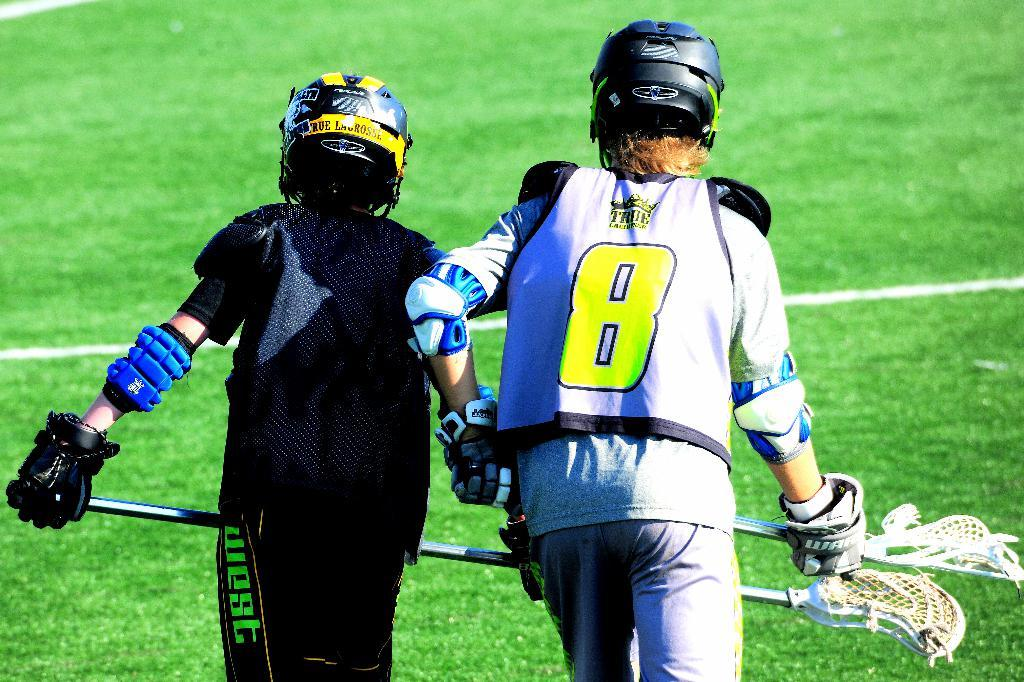helmet: (590, 19, 722, 153), (279, 71, 409, 206)
